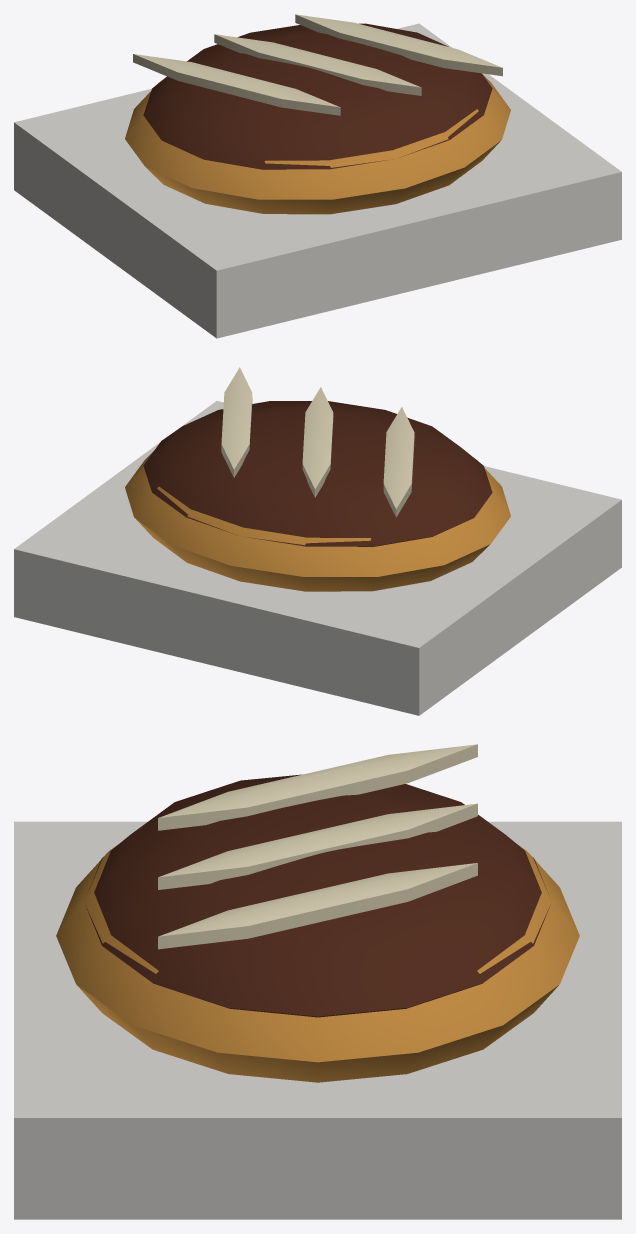
The model's file is item_okonomiyaki.glb.
3 views of the same model, one above another, from view 1: azimuth 30°, elevation 25°; view 2: azimuth 150°, elevation 25°; view 3: azimuth 270°, elevation 25° (orthographic). The views are drawn at different scales.
Parts seen in each view (by area): view 1: item_okonomiyaki; view 2: item_okonomiyaki; view 3: item_okonomiyaki.
Boxes of the visible parts, bbox=[...] form: item_okonomiyaki: bbox=[14, 14, 621, 338]; item_okonomiyaki: bbox=[14, 367, 621, 715]; item_okonomiyaki: bbox=[14, 744, 621, 1219].
Size of the model in its own units: 0.15 by 0.056 by 0.13.
